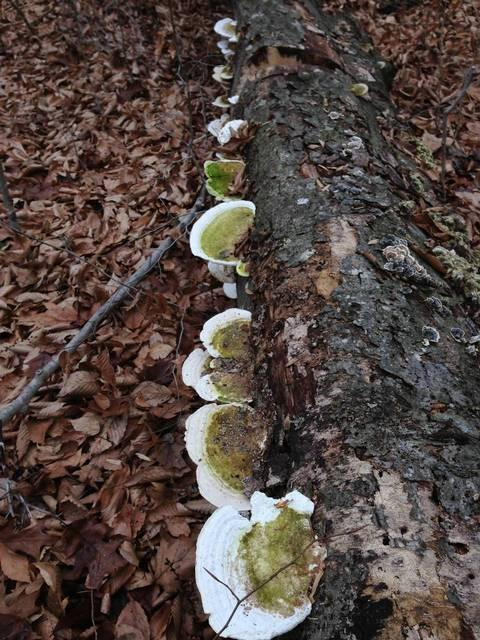poisonous_mushroom: (193, 2, 273, 496), (192, 488, 322, 639), (188, 198, 256, 299)
